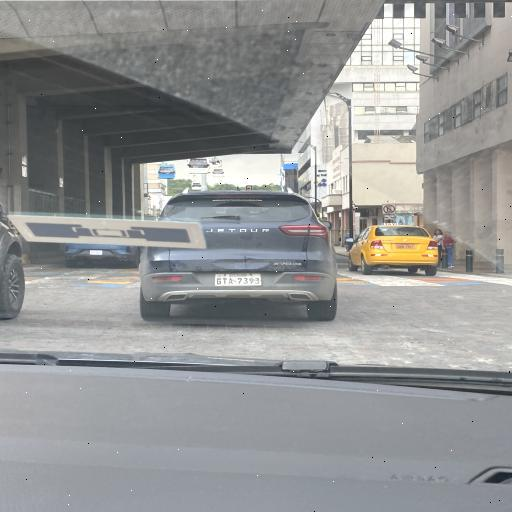license_plate: (216, 277, 222, 285), (254, 277, 260, 285), (222, 278, 228, 285), (243, 277, 248, 285), (228, 278, 233, 285), (249, 278, 254, 284), (238, 278, 242, 284)
